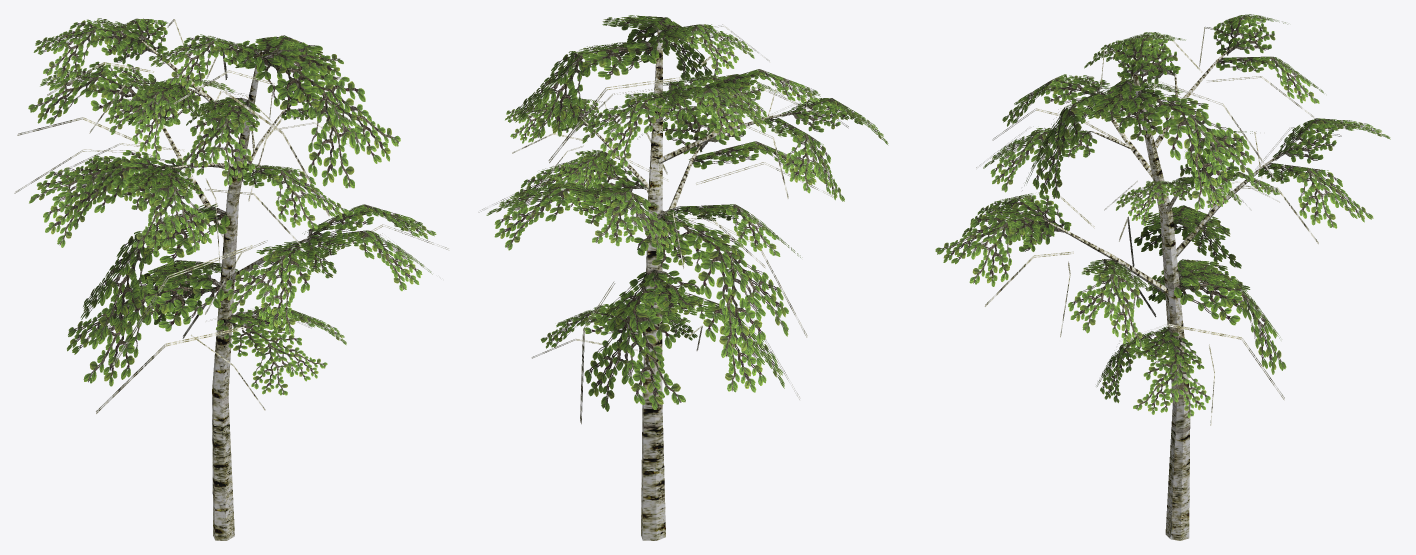
File: abedul_d.glb
3 views of the same model, side by side, from view 1: azimuth 30°, elevation 25°; view 2: azimuth 150°, elevation 25°; view 3: azimuth 270°, elevation 25° (orthographic). The views are drawn at different scales.
Visible parts, largest first — view 1: Modelo; view 2: Modelo; view 3: Modelo.
Boxes of the visible parts, x1,y1,x2,y2 form: Modelo: [14, 18, 449, 540]; Modelo: [478, 15, 888, 540]; Modelo: [935, 14, 1390, 540].
Size of the model in its own units: 4.37 by 6.13 by 5.43.
Materials: 1 (1 with a texture image).
